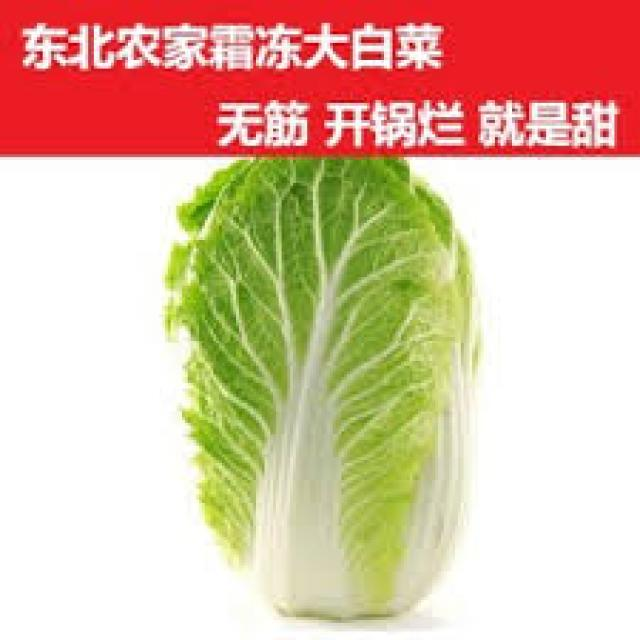food_waste: (165, 157, 478, 611)
